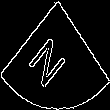N_NE: (32, 23, 78, 87)
